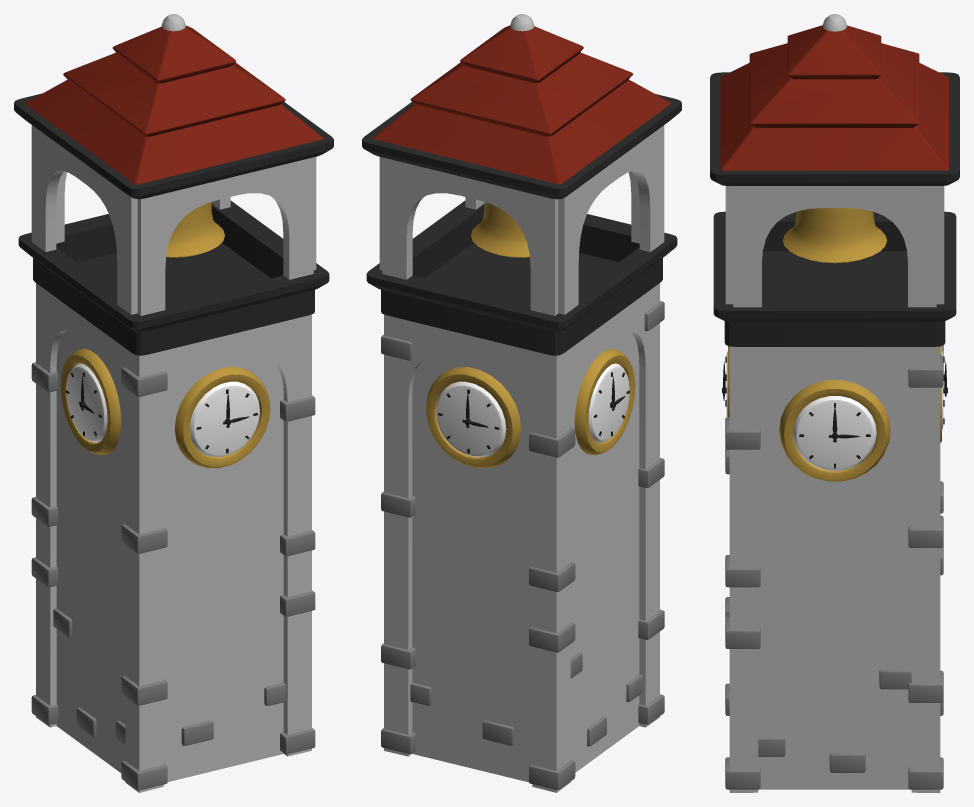
Rendered from SM_clocktower.fbx.
3 views of the same model, side by side, from view 1: azimuth 30°, elevation 25°; view 2: azimuth 150°, elevation 25°; view 3: azimuth 270°, elevation 25° (orthographic). The views are drawn at different scales.
Parts seen in each view (by area): view 1: Object046; view 2: Object046; view 3: Object046.
Part boxes in pixels (x1,y1,x2,y2): Object046: [14, 14, 333, 792]; Object046: [362, 14, 681, 792]; Object046: [710, 14, 959, 792].
Bounding box in the file's own units: 130 × 438 × 135.
